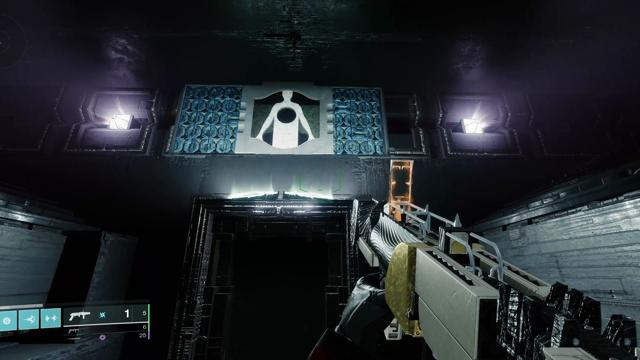grief: (250, 90, 320, 148)
